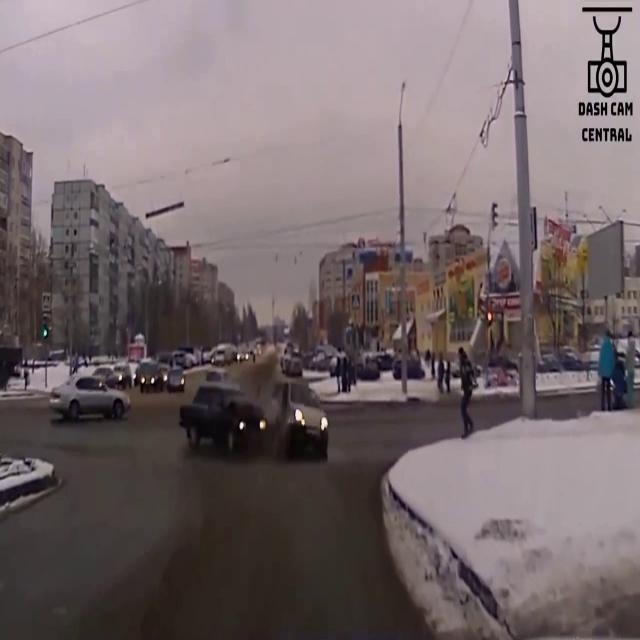accident: (179, 378, 331, 462)
